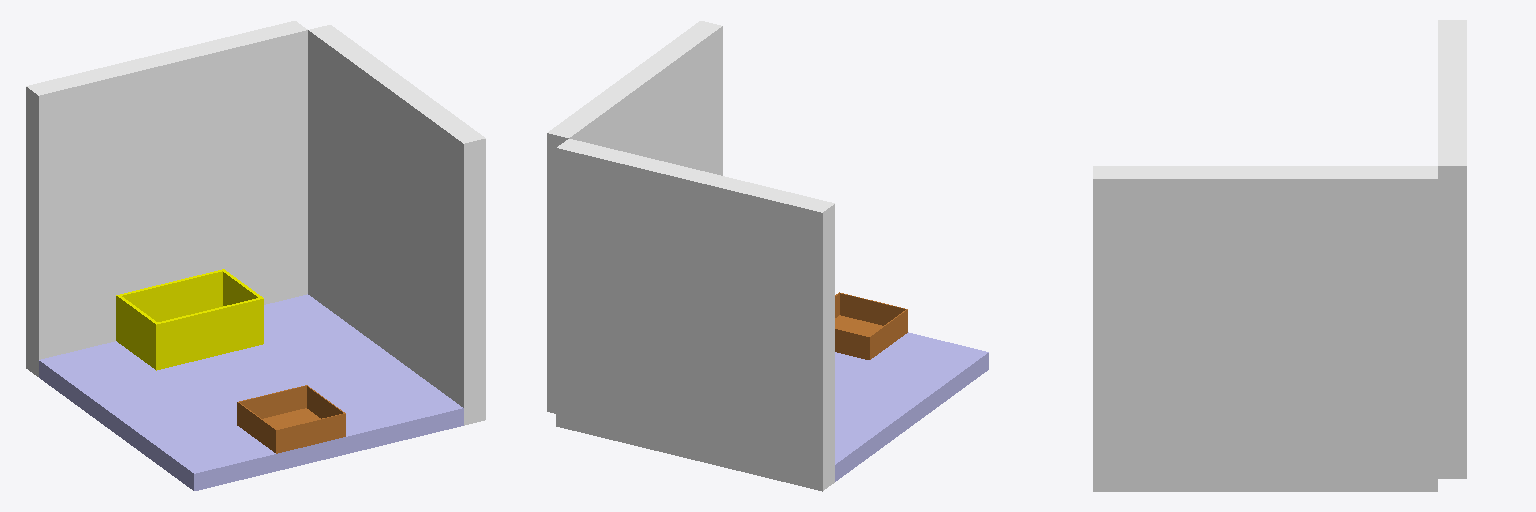
robot.urdf — panda:
<?xml version="1.0" ?>
<!-- =================================================================================== -->
<!-- |    This document was autogenerated by xacro from src/morefusion/ros/morefusion_panda/robots/panda.urdf.xacro | -->
<!-- |    EDITING THIS FILE BY HAND IS NOT RECOMMENDED                                 | -->
<!-- =================================================================================== -->
<robot name="panda">
  <!-- arm {{ -->
  <link name="panda_link0">
    <visual>
      <geometry>
        <mesh filename="/home/wkentaro/ros_morefusion/src/frankaemika/franka_ros/franka_description/meshes/visual/link0.dae"/>
      </geometry>
    </visual>
    <collision>
      <geometry>
        <mesh filename="/home/wkentaro/ros_morefusion/src/frankaemika/franka_ros/franka_description/meshes/collision/link0.stl"/>
      </geometry>
    </collision>
  </link>
  <link name="panda_link1">
    <visual>
      <geometry>
        <mesh filename="/home/wkentaro/ros_morefusion/src/frankaemika/franka_ros/franka_description/meshes/visual/link1.dae"/>
      </geometry>
    </visual>
    <collision>
      <geometry>
        <mesh filename="/home/wkentaro/ros_morefusion/src/frankaemika/franka_ros/franka_description/meshes/collision/link1.stl"/>
      </geometry>
    </collision>
  </link>
  <joint name="panda_joint1" type="revolute">
    <safety_controller k_position="100.0" k_velocity="40.0" soft_lower_limit="-2.8973" soft_upper_limit="2.8973"/>
    <origin rpy="0 0 0" xyz="0 0 0.333"/>
    <parent link="panda_link0"/>
    <child link="panda_link1"/>
    <axis xyz="0 0 1"/>
    <limit effort="87" lower="-2.8973" upper="2.8973" velocity="2.1750"/>
  </joint>
  <link name="panda_link2">
    <visual>
      <geometry>
        <mesh filename="/home/wkentaro/ros_morefusion/src/frankaemika/franka_ros/franka_description/meshes/visual/link2.dae"/>
      </geometry>
    </visual>
    <collision>
      <geometry>
        <mesh filename="/home/wkentaro/ros_morefusion/src/frankaemika/franka_ros/franka_description/meshes/collision/link2.stl"/>
      </geometry>
    </collision>
  </link>
  <joint name="panda_joint2" type="revolute">
    <safety_controller k_position="100.0" k_velocity="40.0" soft_lower_limit="-1.7628" soft_upper_limit="1.7628"/>
    <origin rpy="-1.5707963267948966 0 0" xyz="0 0 0"/>
    <parent link="panda_link1"/>
    <child link="panda_link2"/>
    <axis xyz="0 0 1"/>
    <limit effort="87" lower="-1.7628" upper="1.7628" velocity="2.1750"/>
  </joint>
  <link name="panda_link3">
    <visual>
      <geometry>
        <mesh filename="/home/wkentaro/ros_morefusion/src/frankaemika/franka_ros/franka_description/meshes/visual/link3.dae"/>
      </geometry>
    </visual>
    <collision>
      <geometry>
        <mesh filename="/home/wkentaro/ros_morefusion/src/frankaemika/franka_ros/franka_description/meshes/collision/link3.stl"/>
      </geometry>
    </collision>
  </link>
  <joint name="panda_joint3" type="revolute">
    <safety_controller k_position="100.0" k_velocity="40.0" soft_lower_limit="-2.8973" soft_upper_limit="2.8973"/>
    <origin rpy="1.5707963267948966 0 0" xyz="0 -0.316 0"/>
    <parent link="panda_link2"/>
    <child link="panda_link3"/>
    <axis xyz="0 0 1"/>
    <limit effort="87" lower="-2.8973" upper="2.8973" velocity="2.1750"/>
  </joint>
  <link name="panda_link4">
    <visual>
      <geometry>
        <mesh filename="/home/wkentaro/ros_morefusion/src/frankaemika/franka_ros/franka_description/meshes/visual/link4.dae"/>
      </geometry>
    </visual>
    <collision>
      <geometry>
        <mesh filename="/home/wkentaro/ros_morefusion/src/frankaemika/franka_ros/franka_description/meshes/collision/link4.stl"/>
      </geometry>
    </collision>
  </link>
  <joint name="panda_joint4" type="revolute">
    <safety_controller k_position="100.0" k_velocity="40.0" soft_lower_limit="-3.0718" soft_upper_limit="-0.0698"/>
    <origin rpy="1.5707963267948966 0 0" xyz="0.0825 0 0"/>
    <parent link="panda_link3"/>
    <child link="panda_link4"/>
    <axis xyz="0 0 1"/>
    <limit effort="87" lower="-3.0718" upper="-0.0698" velocity="2.1750"/>
  </joint>
  <link name="panda_link5">
    <visual>
      <geometry>
        <mesh filename="/home/wkentaro/ros_morefusion/src/frankaemika/franka_ros/franka_description/meshes/visual/link5.dae"/>
      </geometry>
    </visual>
    <collision>
      <geometry>
        <mesh filename="/home/wkentaro/ros_morefusion/src/frankaemika/franka_ros/franka_description/meshes/collision/link5.stl"/>
      </geometry>
    </collision>
  </link>
  <joint name="panda_joint5" type="revolute">
    <safety_controller k_position="100.0" k_velocity="40.0" soft_lower_limit="-2.8973" soft_upper_limit="2.8973"/>
    <origin rpy="-1.5707963267948966 0 0" xyz="-0.0825 0.384 0"/>
    <parent link="panda_link4"/>
    <child link="panda_link5"/>
    <axis xyz="0 0 1"/>
    <limit effort="12" lower="-2.8973" upper="2.8973" velocity="2.6100"/>
  </joint>
  <link name="panda_link6">
    <visual>
      <geometry>
        <mesh filename="/home/wkentaro/ros_morefusion/src/frankaemika/franka_ros/franka_description/meshes/visual/link6.dae"/>
      </geometry>
    </visual>
    <collision>
      <geometry>
        <mesh filename="/home/wkentaro/ros_morefusion/src/frankaemika/franka_ros/franka_description/meshes/collision/link6.stl"/>
      </geometry>
    </collision>
  </link>
  <joint name="panda_joint6" type="revolute">
    <safety_controller k_position="100.0" k_velocity="40.0" soft_lower_limit="-0.0175" soft_upper_limit="3.7525"/>
    <origin rpy="1.5707963267948966 0 0" xyz="0 0 0"/>
    <parent link="panda_link5"/>
    <child link="panda_link6"/>
    <axis xyz="0 0 1"/>
    <limit effort="12" lower="-0.0175" upper="3.7525" velocity="2.6100"/>
  </joint>
  <link name="panda_link7">
    <visual>
      <geometry>
        <mesh filename="/home/wkentaro/ros_morefusion/src/frankaemika/franka_ros/franka_description/meshes/visual/link7.dae"/>
      </geometry>
    </visual>
    <collision>
      <geometry>
        <mesh filename="/home/wkentaro/ros_morefusion/src/frankaemika/franka_ros/franka_description/meshes/collision/link7.stl"/>
      </geometry>
    </collision>
  </link>
  <joint name="panda_joint7" type="revolute">
    <safety_controller k_position="100.0" k_velocity="40.0" soft_lower_limit="-2.8973" soft_upper_limit="2.8973"/>
    <origin rpy="1.5707963267948966 0 0" xyz="0.088 0 0"/>
    <parent link="panda_link6"/>
    <child link="panda_link7"/>
    <axis xyz="0 0 1"/>
    <limit effort="12" lower="-2.8973" upper="2.8973" velocity="2.6100"/>
  </joint>
  <link name="panda_link8"/>
  <joint name="panda_joint8" type="fixed">
    <origin rpy="0 0 0" xyz="0 0 0.107"/>
    <parent link="panda_link7"/>
    <child link="panda_link8"/>
    <axis xyz="0 0 0"/>
  </joint>
  <!-- }} arm -->
  <!-- gripper {{ -->
  <material name="black">
    <color rgba="0.2 0.2 0.2 1"/>
  </material>
  <material name="green">
    <color rgba="0.1 0.9 0.1 1"/>
  </material>
  <joint name="panda_suction_gripper_joint" type="fixed">
    <parent link="panda_link8"/>
    <child link="panda_suction_gripper"/>
    <origin rpy="3.141592653589793 0 -0.7853981633974483" xyz="0 0 0.0065"/>
  </joint>
  <link name="panda_suction_gripper">
    <visual>
      <geometry>
        <mesh filename="/home/wkentaro/ros_morefusion/src/morefusion/ros/morefusion_panda/meshes/visual/suction_mount.stl"/>
      </geometry>
      <material name="black"/>
    </visual>
    <collision>
      <geometry>
        <box size="0.168 0.137 0.047"/>
      </geometry>
      <origin xyz="0.0155 0 -0.005"/>
    </collision>
  </link>
  <link name="panda_suction_cup">
    <visual>
      <geometry>
        <mesh filename="/home/wkentaro/ros_morefusion/src/morefusion/ros/morefusion_panda/meshes/visual/suction_cup.stl"/>
      </geometry>
      <material name="green"/>
    </visual>
    <collision>
      <geometry>
        <box size="0.0502 0.0502 0.0671"/>
      </geometry>
      <origin xyz="0 0 -0.0314"/>
    </collision>
  </link>
  <joint name="panda_suction_mount_to_cup_joint" type="fixed">
    <parent link="panda_suction_gripper"/>
    <child link="panda_suction_cup"/>
    <origin rpy="3.141592653589793 0 0" xyz="0.072 0 -0.069494"/>
  </joint>
  <!-- }} gripper -->
  <!-- scene {{ -->
  <material name="light_blue">
    <color rgba="0.8 0.8 1.0 1"/>
  </material>
  <joint name="panda_table_joint" type="fixed">
    <parent link="panda_link0"/>
    <child link="panda_table"/>
    <origin rpy="0 0 0" xyz="0.68 0 0.0375"/>
  </joint>
  <link name="panda_table">
    <visual>
      <geometry>
        <box size="1.2 1.2 0.075"/>
      </geometry>
      <material name="light_blue"/>
    </visual>
    <collision>
      <geometry>
        <box size="1.2 1.2 0.075"/>
      </geometry>
    </collision>
  </link>
  <material name="left_white">
    <color rgba="1.0 1.0 1.0 1"/>
  </material>
  <joint name="panda_left_wall_joint" type="fixed">
    <parent link="panda_link0"/>
    <child link="panda_left_wall"/>
    <origin rpy="1.5707963267948966 0 0" xyz="0.68 0.65 0.6"/>
  </joint>
  <link name="panda_left_wall">
    <visual>
      <geometry>
        <box size="1.2 1.2 0.1"/>
      </geometry>
      <material name="left_white"/>
    </visual>
    <collision>
      <geometry>
        <box size="1.2 1.2 0.1"/>
      </geometry>
    </collision>
  </link>
  <material name="front_white">
    <color rgba="1.0 1.0 1.0 1"/>
  </material>
  <joint name="panda_front_wall_joint" type="fixed">
    <parent link="panda_link0"/>
    <child link="panda_front_wall"/>
    <origin rpy="0 1.5707963267948966 0" xyz="1.33 0 0.6"/>
  </joint>
  <link name="panda_front_wall">
    <visual>
      <geometry>
        <box size="1.2 1.2 0.1"/>
      </geometry>
      <material name="front_white"/>
    </visual>
    <collision>
      <geometry>
        <box size="1.2 1.2 0.1"/>
      </geometry>
    </collision>
  </link>
  <material name="brown">
    <color rgba="0.804 0.522 0.247 1"/>
  </material>
  <joint name="panda_target_box_joint" type="fixed">
    <parent link="panda_link0"/>
    <child link="panda_target_box"/>
    <origin rpy="0 0 0" xyz="0.6 -0.45 0.075"/>
  </joint>
  <link name="panda_target_box">
    <visual>
      <geometry>
        <box size="0.31 0.3 0.01"/>
      </geometry>
      <material name="brown"/>
    </visual>
    <collision>
      <geometry>
        <box size="0.31 0.3 0.01"/>
      </geometry>
    </collision>
  </link>
  <link name="panda_target_box_left">
    <visual>
      <geometry>
        <box size="0.31 0.105 0.005"/>
      </geometry>
      <material name="brown"/>
    </visual>
    <collision>
      <geometry>
        <box size="0.31 0.105 0.005"/>
      </geometry>
    </collision>
  </link>
  <link name="panda_target_box_right">
    <visual>
      <geometry>
        <box size="0.31 0.105 0.005"/>
      </geometry>
      <material name="brown"/>
    </visual>
    <collision>
      <geometry>
        <box size="0.31 0.105 0.005"/>
      </geometry>
    </collision>
  </link>
  <link name="panda_target_box_front">
    <visual>
      <geometry>
        <box size="0.105 0.3 0.005"/>
      </geometry>
      <material name="brown"/>
    </visual>
    <collision>
      <geometry>
        <box size="0.105 0.3 0.005"/>
      </geometry>
    </collision>
  </link>
  <link name="panda_target_box_back">
    <visual>
      <geometry>
        <box size="0.105 0.3 0.005"/>
      </geometry>
      <material name="brown"/>
    </visual>
    <collision>
      <geometry>
        <box size="0.105 0.3 0.005"/>
      </geometry>
    </collision>
  </link>
  <joint name="panda_target_box_left_joint" type="fixed">
    <parent link="panda_target_box"/>
    <child link="panda_target_box_left"/>
    <origin rpy="1.5707963267948966 0 0" xyz="0 0.1475 0.0475"/>
  </joint>
  <joint name="panda_target_box_right_joint" type="fixed">
    <parent link="panda_target_box"/>
    <child link="panda_target_box_right"/>
    <origin rpy="1.5707963267948966 0 0" xyz="0 -0.1475 0.0475"/>
  </joint>
  <joint name="panda_target_box_front_joint" type="fixed">
    <parent link="panda_target_box"/>
    <child link="panda_target_box_front"/>
    <origin rpy="0 1.5707963267948966 0" xyz="-0.1525 0 0.0475"/>
  </joint>
  <joint name="panda_target_box_back_joint" type="fixed">
    <parent link="panda_target_box"/>
    <child link="panda_target_box_back"/>
    <origin rpy="0 1.5707963267948966 0" xyz="0.1525 0 0.0475"/>
  </joint>
  <material name="yellow">
    <color rgba="1.0 1.0 0.0 1"/>
  </material>
  <joint name="panda_distractor_box_joint" type="fixed">
    <parent link="panda_link0"/>
    <child link="panda_distractor_box"/>
    <origin rpy="0 0 0" xyz="0.665 0.445 0.0775"/>
  </joint>
  <link name="panda_distractor_box">
    <visual>
      <geometry>
        <box size="0.48 0.31 0.015"/>
      </geometry>
      <material name="yellow"/>
    </visual>
    <collision>
      <geometry>
        <box size="0.48 0.31 0.015"/>
      </geometry>
    </collision>
  </link>
  <link name="panda_distractor_box_left">
    <visual>
      <geometry>
        <box size="0.48 0.2 0.015"/>
      </geometry>
      <material name="yellow"/>
    </visual>
    <collision>
      <geometry>
        <box size="0.48 0.2 0.015"/>
      </geometry>
    </collision>
  </link>
  <link name="panda_distractor_box_right">
    <visual>
      <geometry>
        <box size="0.48 0.2 0.015"/>
      </geometry>
      <material name="yellow"/>
    </visual>
    <collision>
      <geometry>
        <box size="0.48 0.2 0.015"/>
      </geometry>
    </collision>
  </link>
  <link name="panda_distractor_box_front">
    <visual>
      <geometry>
        <box size="0.2 0.31 0.015"/>
      </geometry>
      <material name="yellow"/>
    </visual>
    <collision>
      <geometry>
        <box size="0.2 0.31 0.015"/>
      </geometry>
    </collision>
  </link>
  <link name="panda_distractor_box_back">
    <visual>
      <geometry>
        <box size="0.2 0.31 0.015"/>
      </geometry>
      <material name="yellow"/>
    </visual>
    <collision>
      <geometry>
        <box size="0.2 0.31 0.015"/>
      </geometry>
    </collision>
  </link>
  <joint name="panda_distractor_box_left_joint" type="fixed">
    <parent link="panda_distractor_box"/>
    <child link="panda_distractor_box_left"/>
    <origin rpy="1.5707963267948966 0 0" xyz="0 0.1475 0.0925"/>
  </joint>
  <joint name="panda_distractor_box_right_joint" type="fixed">
    <parent link="panda_distractor_box"/>
    <child link="panda_distractor_box_right"/>
    <origin rpy="1.5707963267948966 0 0" xyz="0 -0.1475 0.0925"/>
  </joint>
  <joint name="panda_distractor_box_front_joint" type="fixed">
    <parent link="panda_distractor_box"/>
    <child link="panda_distractor_box_front"/>
    <origin rpy="0 1.5707963267948966 0" xyz="-0.2325 0 0.0925"/>
  </joint>
  <joint name="panda_distractor_box_back_joint" type="fixed">
    <parent link="panda_distractor_box"/>
    <child link="panda_distractor_box_back"/>
    <origin rpy="0 1.5707963267948966 0" xyz="0.2325 0 0.0925"/>
  </joint>
  <!-- }} scene -->
</robot>

--- Facts derived from the render (not from the file) ---
The picture shows the robot from 3 angles, left to right: view 1: azimuth 30°, elevation 25°; view 2: azimuth 150°, elevation 25°; view 3: azimuth 270°, elevation 25°; orthographic projection.
Model panda with 24 links and 23 joints (7 revolute, 16 fixed), rooted at panda_link0, posed all joints at 0 but 1 set to mid-range because 0 is outside their limits (panda_joint4 = -1.57).
Visible links, largest first — view 1: panda_left_wall, panda_front_wall, panda_table, panda_distractor_box_right, panda_distractor_box_left, panda_distractor_box_front, panda_target_box_right, panda_target_box_left, panda_target_box_front, panda_distractor_box_back, panda_target_box, panda_target_box_back; view 2: panda_left_wall, panda_front_wall, panda_table, panda_target_box_right, panda_target_box_front, panda_target_box_left, panda_target_box; view 3: panda_front_wall, panda_left_wall.
Boxes of the visible links, <box> form: panda_left_wall: <box>26,21,307,376</box>; panda_front_wall: <box>308,25,485,425</box>; panda_table: <box>39,294,463,490</box>; panda_distractor_box_right: <box>155,297,263,369</box>; panda_distractor_box_left: <box>116,269,225,339</box>; panda_distractor_box_front: <box>116,295,159,367</box>; panda_target_box_right: <box>276,413,345,453</box>; panda_target_box_left: <box>237,385,306,425</box>; panda_target_box_front: <box>238,402,276,452</box>; panda_distractor_box_back: <box>223,270,263,342</box>; panda_target_box: <box>237,408,345,453</box>; panda_target_box_back: <box>307,385,345,418</box>; panda_left_wall: <box>556,139,834,491</box>; panda_front_wall: <box>547,21,722,413</box>; panda_table: <box>835,332,988,481</box>; panda_target_box_right: <box>840,293,907,332</box>; panda_target_box_front: <box>869,309,906,358</box>; panda_target_box_left: <box>835,328,869,358</box>; panda_target_box: <box>835,315,905,359</box>; panda_front_wall: <box>1093,166,1437,491</box>; panda_left_wall: <box>1438,20,1466,478</box>.
Size in the robot's own frame: 1.3 by 1.3 by 1.2 metres.
Geometry: only primitive shapes (box / cylinder / sphere) drawn; not drawn: 10 mesh visuals (reference in a form the renderer does not follow).
